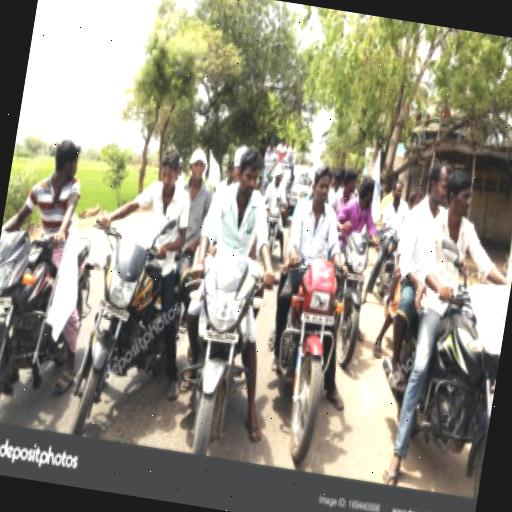no helmet: (164, 123, 296, 454), (66, 130, 202, 416), (395, 153, 512, 468), (253, 144, 374, 438), (0, 110, 98, 395)
